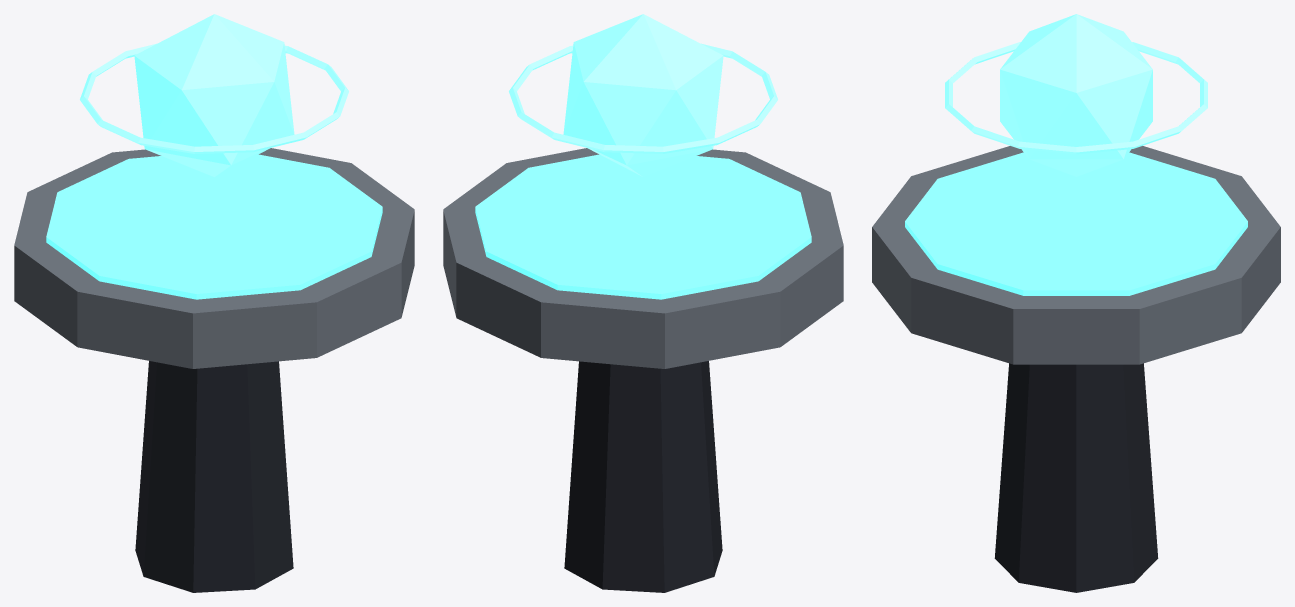
Rendered from hologram_table.fbx.
3 renders of one model, left to right at view 1: azimuth 30°, elevation 25°; view 2: azimuth 150°, elevation 25°; view 3: azimuth 270°, elevation 25°, orthographic.
Visible parts, largest first — view 1: hologram_table; view 2: hologram_table; view 3: hologram_table.
Boxes of the visible parts, box(x1,y1,x2,y2) form: hologram_table: box(14, 14, 414, 592); hologram_table: box(443, 14, 843, 592); hologram_table: box(872, 14, 1280, 592).
Size of the model in its own units: 0.9511 by 1.47 by 1.
